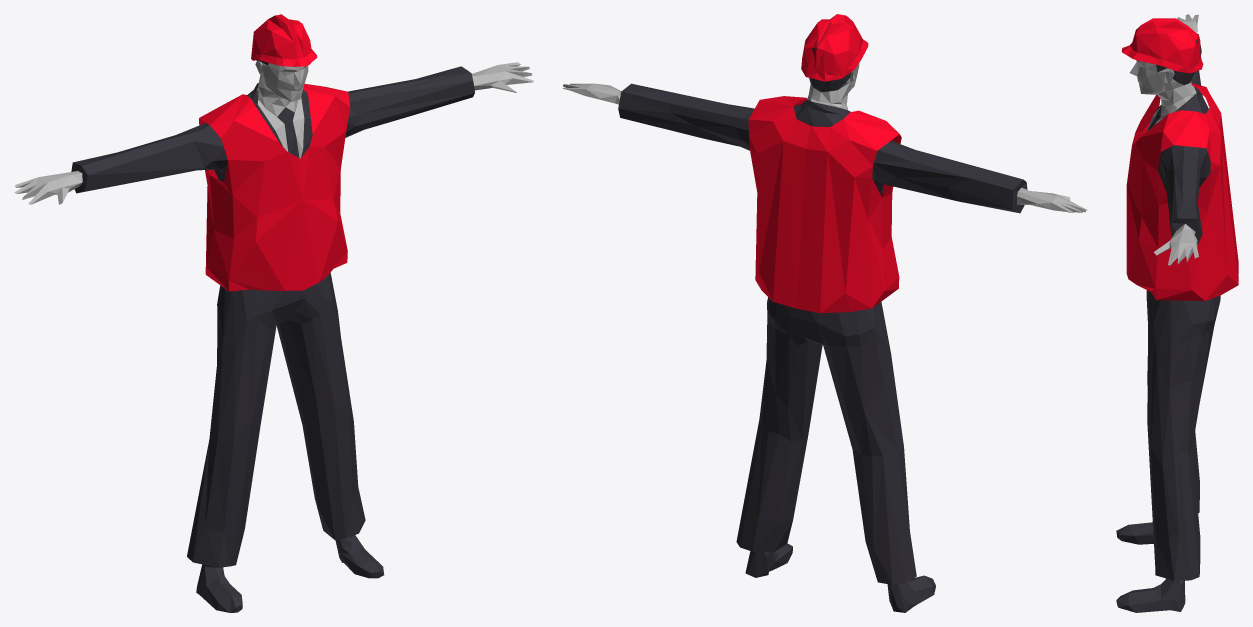
File: slesar.fbx
The picture shows the model from 3 angles, left to right: view 1: azimuth 30°, elevation 25°; view 2: azimuth 150°, elevation 25°; view 3: azimuth 270°, elevation 25°; orthographic projection. The views are drawn at different scales.
Visible parts, largest first — view 1: Body.001, Jacket, Helmet; view 2: Body.001, Jacket, Helmet; view 3: Body.001, Jacket, Helmet.
Part boxes in pixels (bbox=[...]): Body.001: bbox=[14, 60, 533, 612]; Jacket: bbox=[199, 83, 350, 291]; Helmet: bbox=[251, 14, 317, 66]; Body.001: bbox=[563, 25, 1087, 612]; Jacket: bbox=[748, 96, 901, 313]; Helmet: bbox=[801, 14, 868, 81]; Body.001: bbox=[1116, 14, 1220, 612]; Jacket: bbox=[1126, 83, 1238, 300]; Helmet: bbox=[1121, 18, 1203, 73].
Bounding box in the file's own units: 171 × 179 × 35.66.
